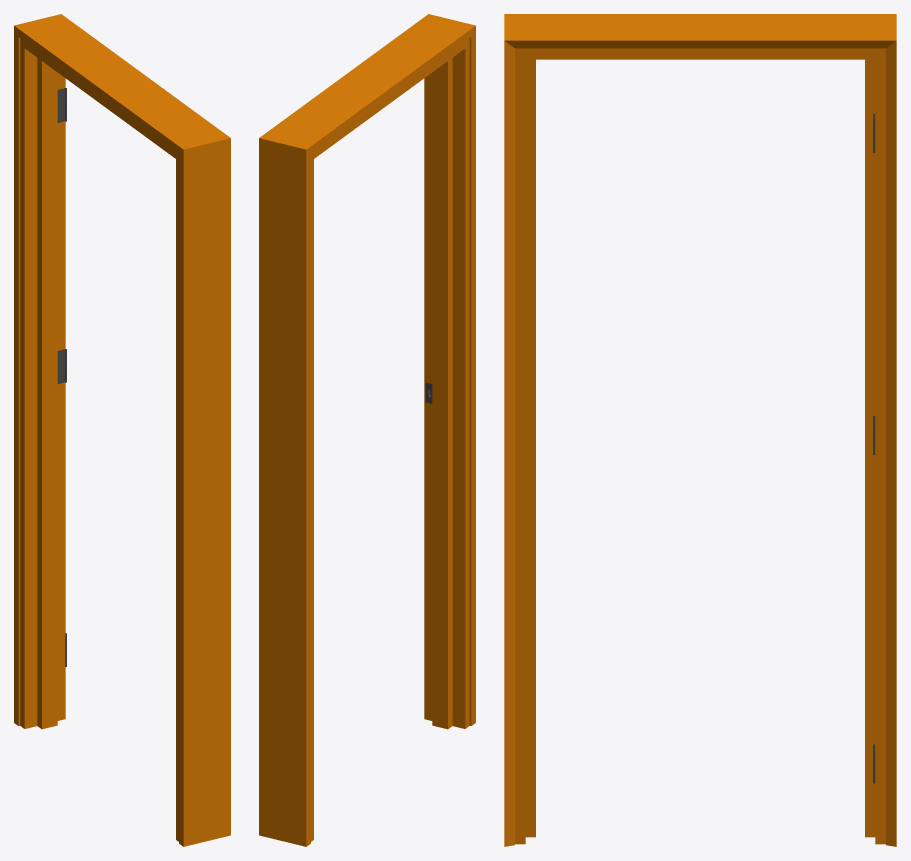
File: SM_MB_DoorFrame_2_Edited.fbx
3 views of the same model, side by side, from view 1: azimuth 30°, elevation 25°; view 2: azimuth 150°, elevation 25°; view 3: azimuth 270°, elevation 25° (orthographic). The views are drawn at different scales.
Visible parts, largest first — view 1: SM_MB_DoorFrame_2_Edited; view 2: SM_MB_DoorFrame_2_Edited; view 3: SM_MB_DoorFrame_2_Edited.
Boxes of the visible parts, x1,y1,x2,y2 form: SM_MB_DoorFrame_2_Edited: (14, 14, 230, 846); SM_MB_DoorFrame_2_Edited: (259, 14, 475, 846); SM_MB_DoorFrame_2_Edited: (504, 14, 896, 846).
Size of the model in its own units: 15 by 211 by 93.
